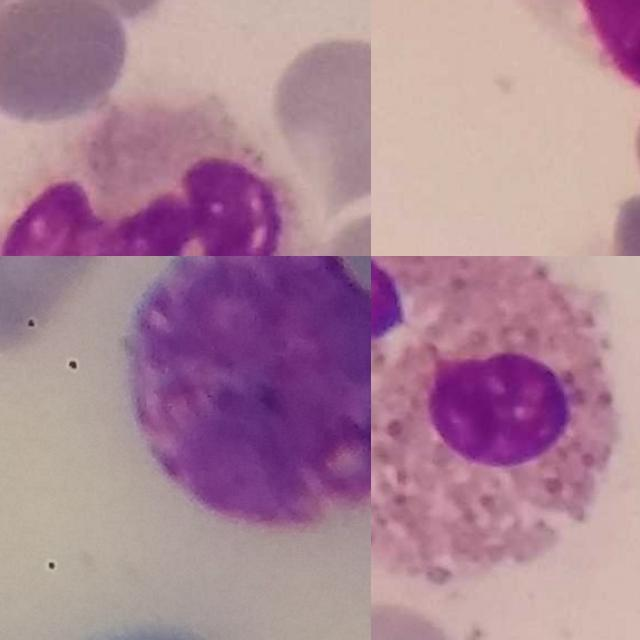Basophil: (124, 256, 371, 530)
Eosinophil: (371, 256, 620, 587), (490, 0, 640, 98)
Neutrophil: (0, 97, 307, 256)
